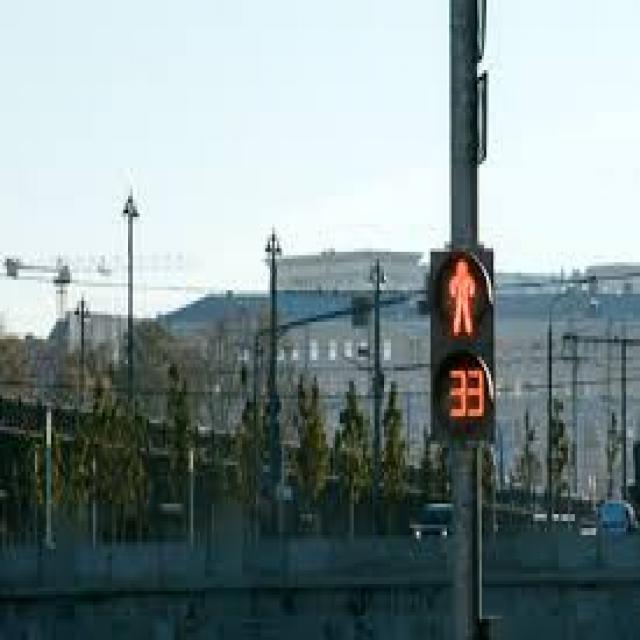Not go: (429, 251, 503, 438), (439, 251, 497, 352)
